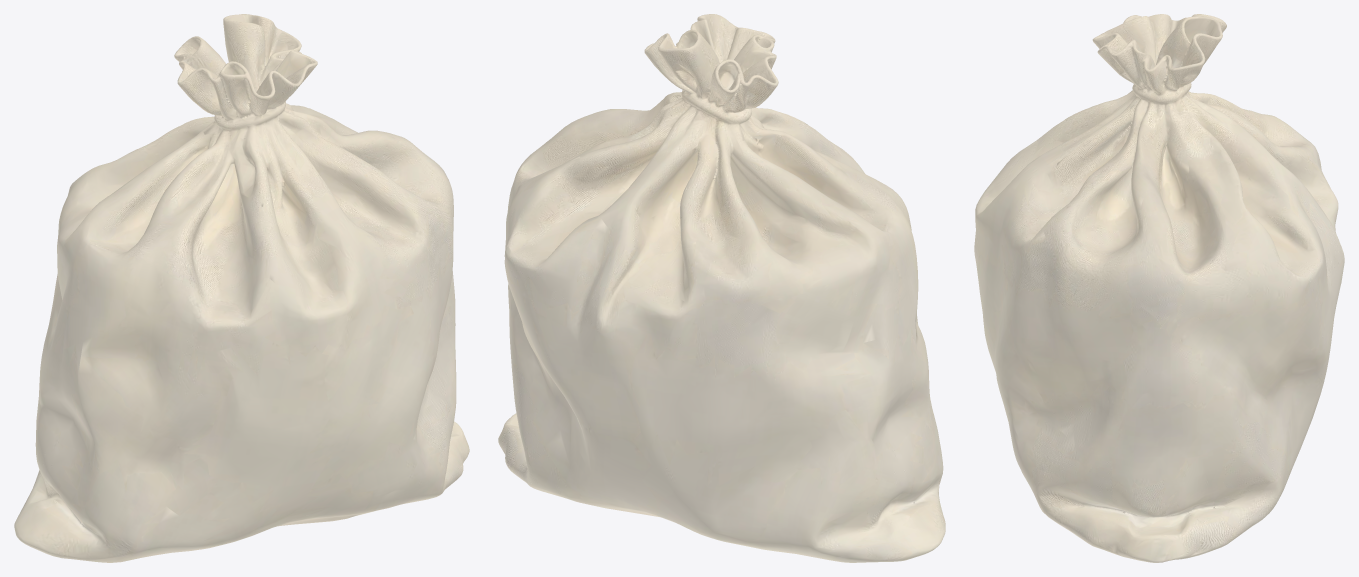
Rendered from flour-sack.glb.
The picture shows the model from 3 angles, left to right: view 1: azimuth 30°, elevation 25°; view 2: azimuth 150°, elevation 25°; view 3: azimuth 270°, elevation 25°; orthographic projection. The views are drawn at different scales.
Parts seen in each view (by area): view 1: Mesh_0.001; view 2: Mesh_0.001; view 3: Mesh_0.001.
Part boxes in pixels (x1,y1,x2,y2): Mesh_0.001: (14,14,469,562); Mesh_0.001: (498,14,945,562); Mesh_0.001: (974,14,1344,562).
Size of the model in its own units: 0.2444 by 0.25 by 0.1848.
1 material, 1 textured.
